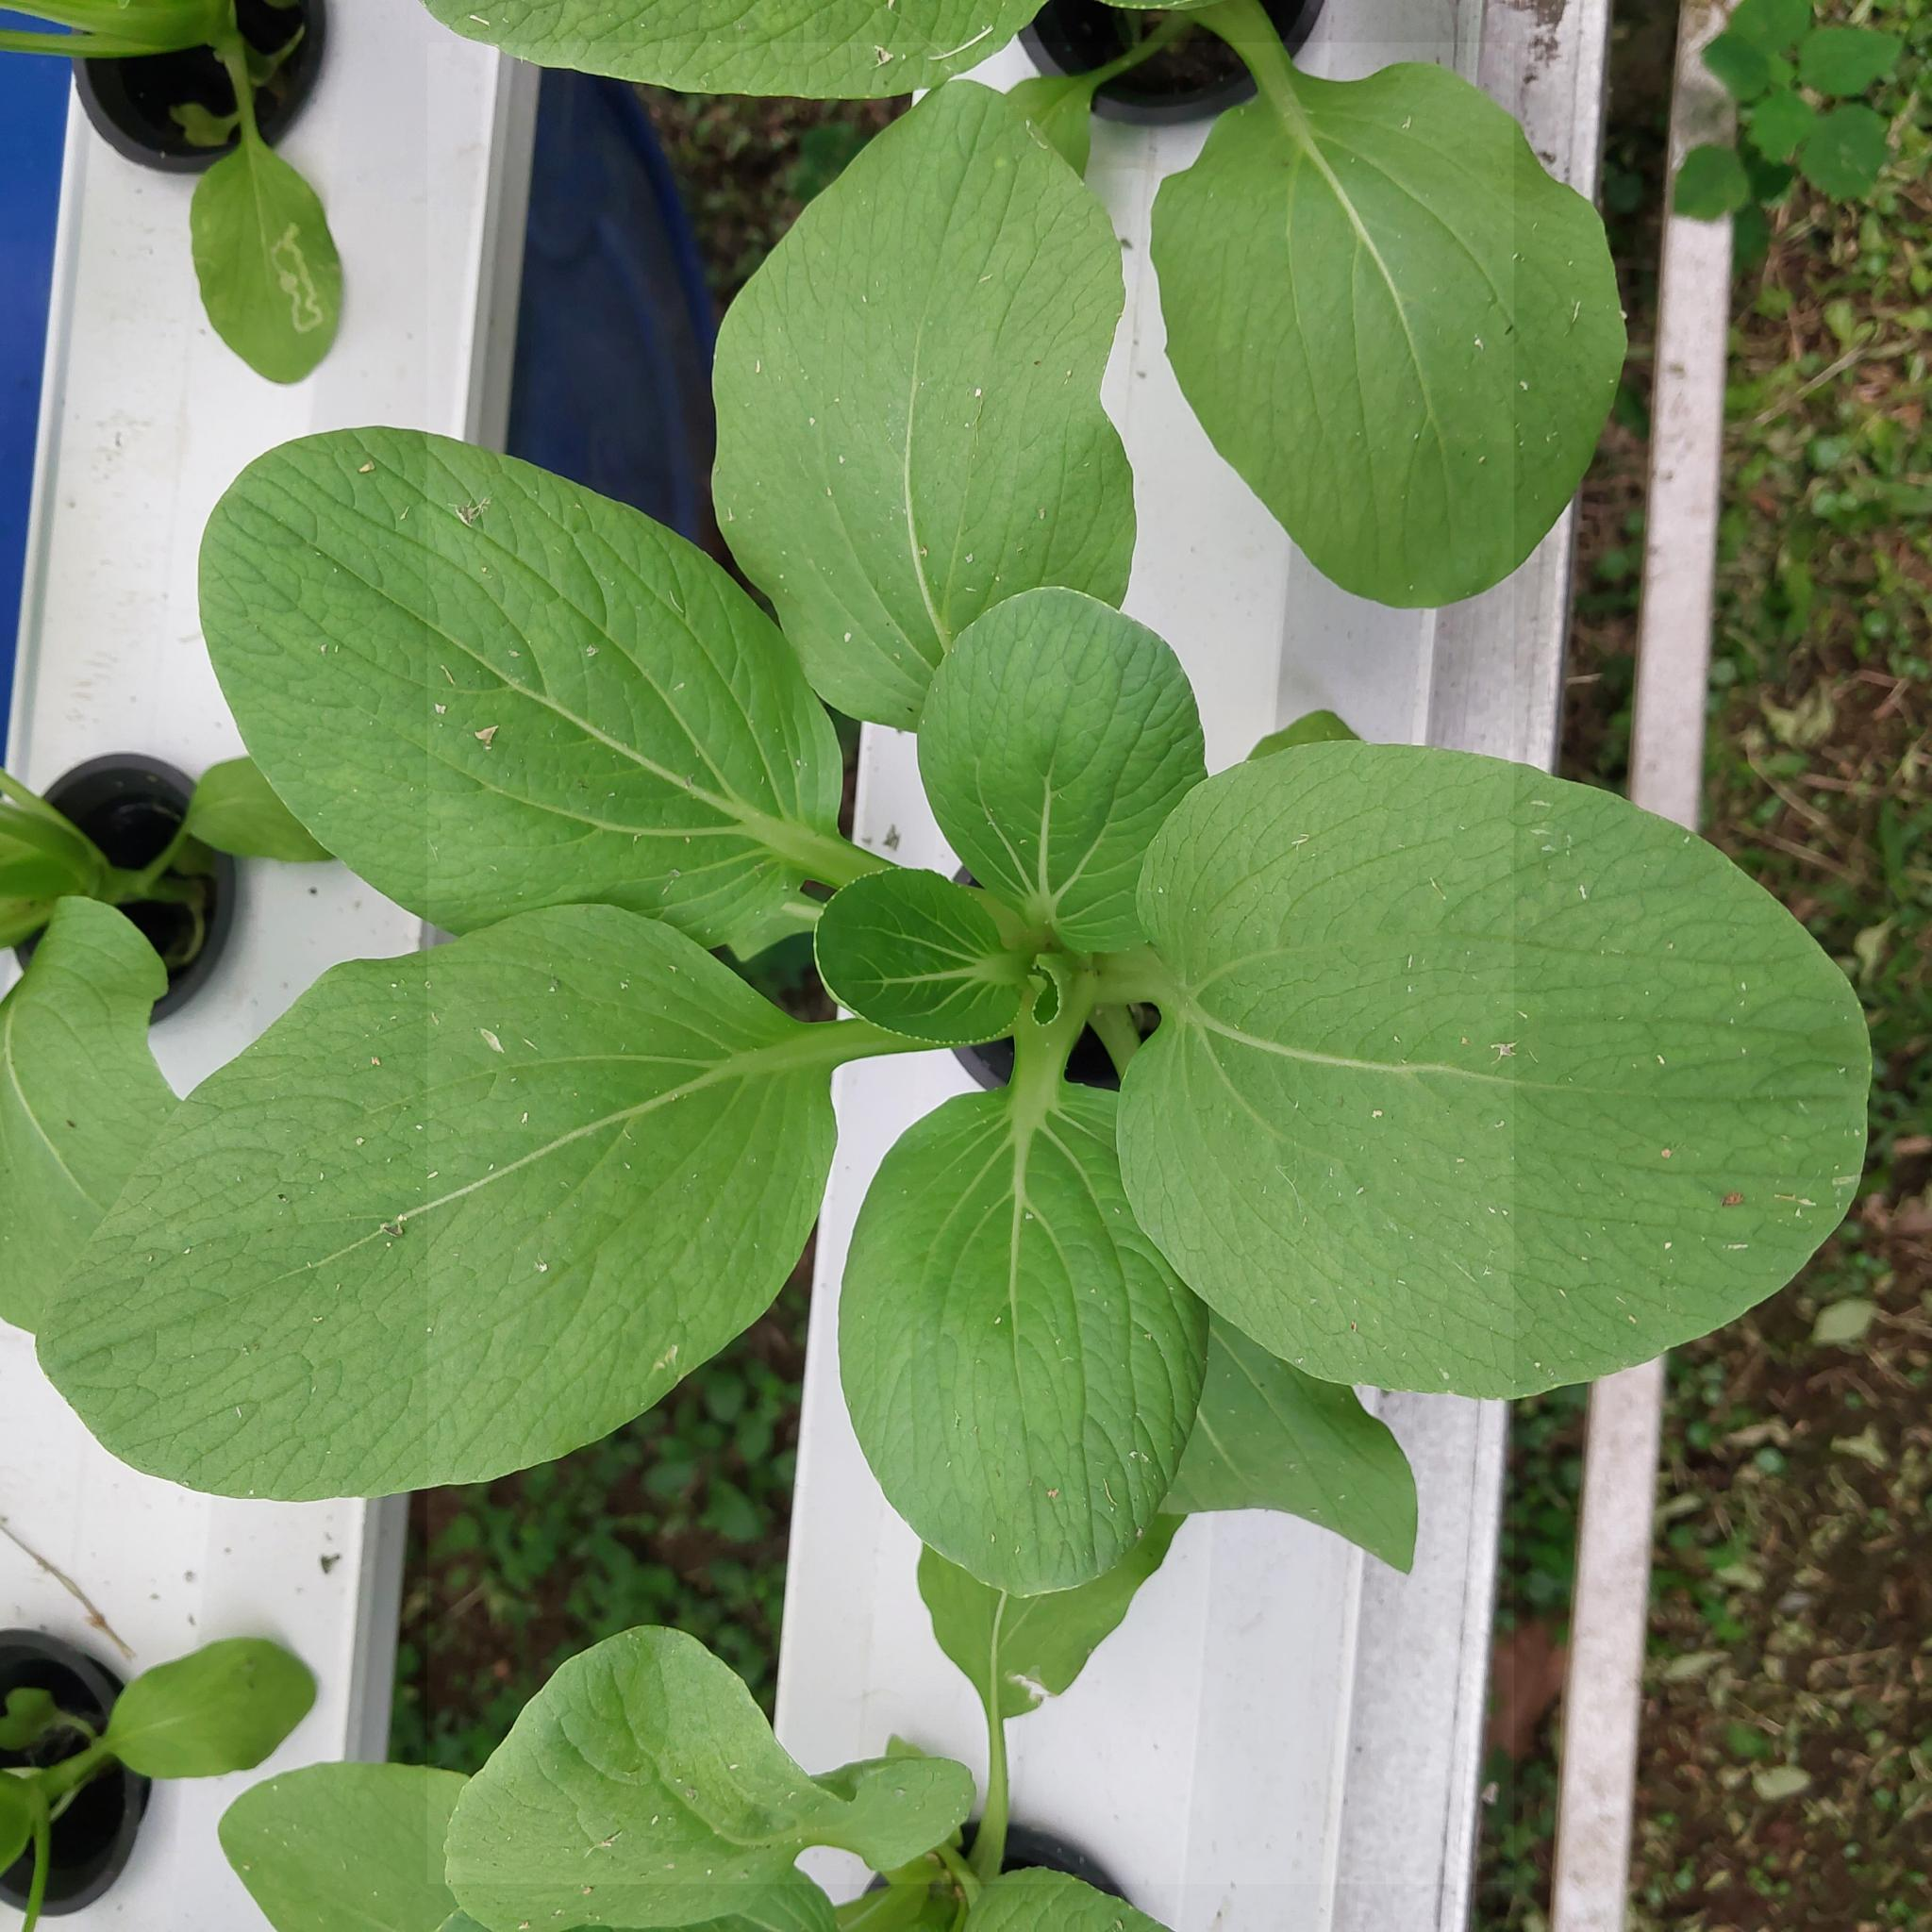Healthy-Pechay: (149, 0, 1932, 1888), (25, 931, 883, 1497), (191, 423, 886, 962), (1148, 23, 1626, 621), (725, 65, 1127, 731), (2, 902, 182, 1307), (356, 1065, 736, 1247), (395, 2, 1063, 103), (218, 1764, 474, 1932), (191, 103, 341, 389), (180, 759, 336, 863)
